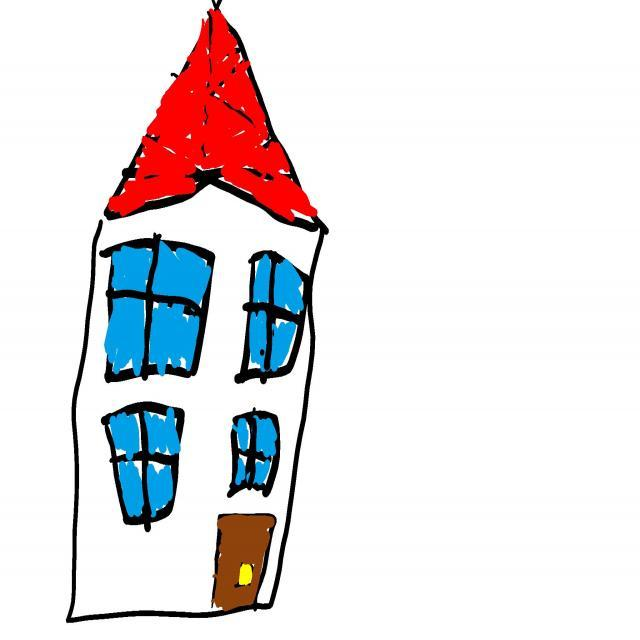door: (212, 515, 276, 613)
house: (68, 8, 327, 623)
roof: (105, 9, 317, 223)
wall: (67, 182, 324, 622)
window: (100, 235, 214, 382), (102, 403, 184, 532), (235, 252, 309, 383), (228, 410, 279, 498)
